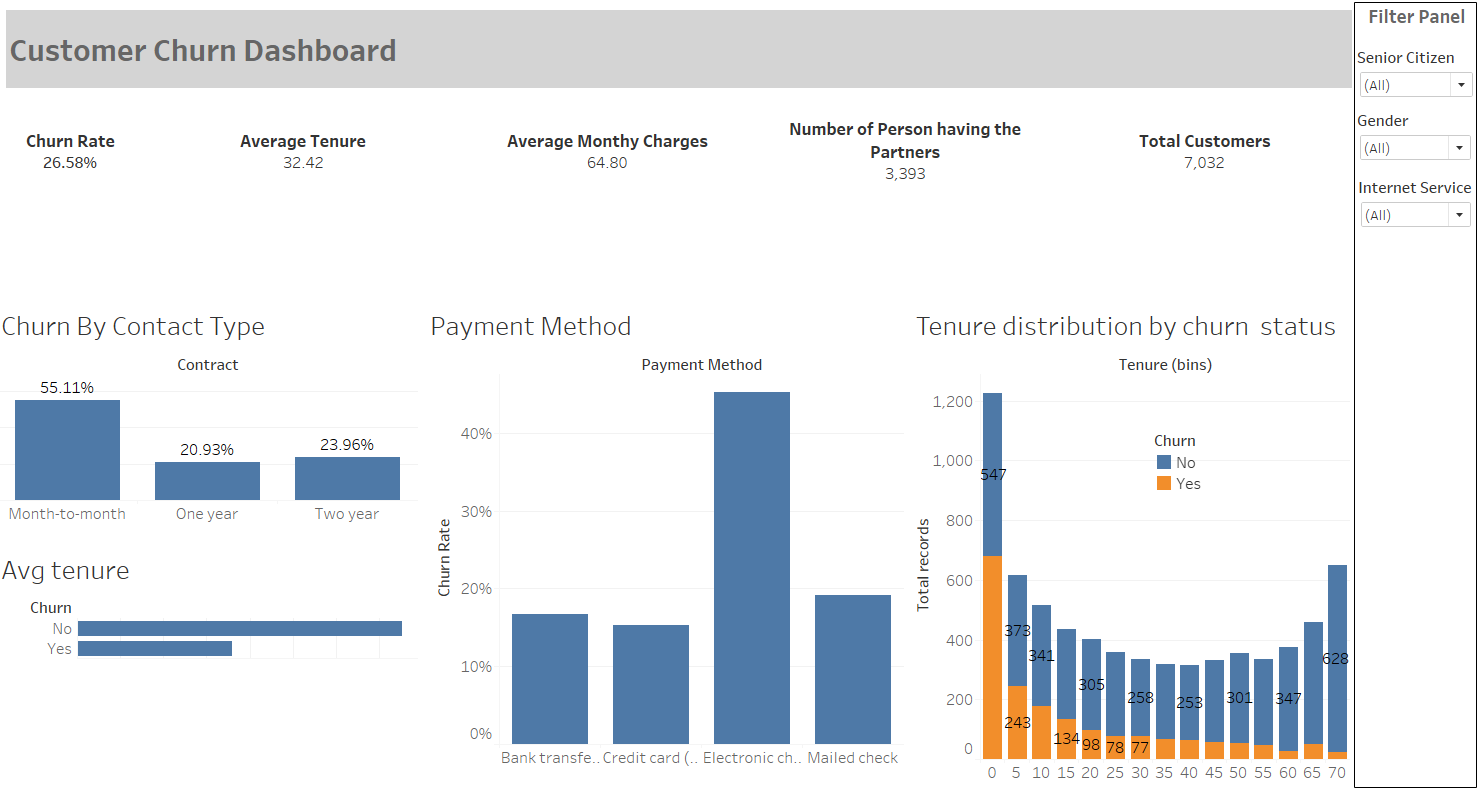

This screenshot's page, from the dashboard's own definition file:
{"tool":"tableau","page":{"name":"dashboard","canvas":[1000,1000],"units":"permille","ordinal":0},"visuals":[{"type":"worksheet","title":"Avg Churn Rate","mark":"Automatic","box":[5.3,10,103.3,371.6]},{"type":"worksheet","title":"Average Tenure","mark":"Automatic","box":[108.7,10,207.3,371.6]},{"type":"worksheet","title":"Average Monthly Charges","mark":"Automatic","box":[316,10,198.9,371.6]},{"type":"worksheet","title":"Number of Partners","mark":"Automatic","box":[514.9,10,198.9,371.6]},{"type":"worksheet","title":"Sheet 14","mark":"Automatic","box":[713.8,10,198.9,371.6]},{"type":"text","box":[920,11.2,69.3,57.4]},{"type":"text","box":[14,19.9,897.3,97.3]},{"type":"filter","title":"Tenure distribution by churn  status","param":"[federated.0thepwh1ms3hs9157mabg0gerpjf].[none:SeniorCitizen:nk]","box":[914.7,66.1,79.3,130.9]},{"type":"filter","title":"Tenure distribution by churn  status","param":"[federated.0thepwh1ms3hs9157mabg0gerpjf].[none:gender:nk]","box":[914.7,144.6,78,92.3]},{"type":"filter","title":"Tenure distribution by churn  status","param":"[federated.0thepwh1ms3hs9157mabg0gerpjf].[none:InternetService:nk]","box":[915.3,228.2,77.3,87.3]},{"type":"worksheet","title":"Contract type","mark":"Bar","rows":["Calculation_1699545925323866113"],"cols":["Contract"],"box":[5.3,381.5,286,304.2]},{"type":"worksheet","title":"Payment Method","mark":"Automatic","rows":["Calculation_1699545925323223040"],"cols":["PaymentMethod"],"box":[291.3,381.5,324,608.5]},{"type":"worksheet","title":"Tenure distribution by churn  status","mark":"Bar","rows":["Calculation_1699545925323866113"],"cols":["Tenure (bin)"],"box":[615.3,381.5,297.3,608.5]},{"type":"legend","title":"Tenure distribution by churn  status","param":"[federated.0thepwh1ms3hs9157mabg0gerpjf].[none:Churn:ok]","box":[779.3,543.6,93.3,79.8]},{"type":"worksheet","title":"Avg tenure","mark":"Automatic","rows":["Churn"],"cols":["tenure"],"box":[5.3,685.8,286,304.2]}]}

Visuals, with their boxes on the dashboard's canvas, which has no fixed pixel size, in thousandths of its width and height (x1, y1, x2, y2). These are canvas units, not pixel positions in the 1483x791 screenshot, which may show the page scaled, cropped or inside an application window:
"Avg Churn Rate" worksheet: (5, 10, 109, 382)
"Average Tenure" worksheet: (109, 10, 316, 382)
"Average Monthly Charges" worksheet: (316, 10, 515, 382)
"Number of Partners" worksheet: (515, 10, 714, 382)
"Sheet 14" worksheet: (714, 10, 913, 382)
text: (920, 11, 989, 69)
text: (14, 20, 911, 117)
"Tenure distribution by churn  status" filter: (915, 66, 994, 197)
"Tenure distribution by churn  status" filter: (915, 145, 993, 237)
"Tenure distribution by churn  status" filter: (915, 228, 993, 316)
"Contract type" worksheet (Bar marks): (5, 382, 291, 686)
"Payment Method" worksheet: (291, 382, 615, 990)
"Tenure distribution by churn  status" worksheet (Bar marks): (615, 382, 913, 990)
"Tenure distribution by churn  status" legend: (779, 544, 873, 623)
"Avg tenure" worksheet: (5, 686, 291, 990)
